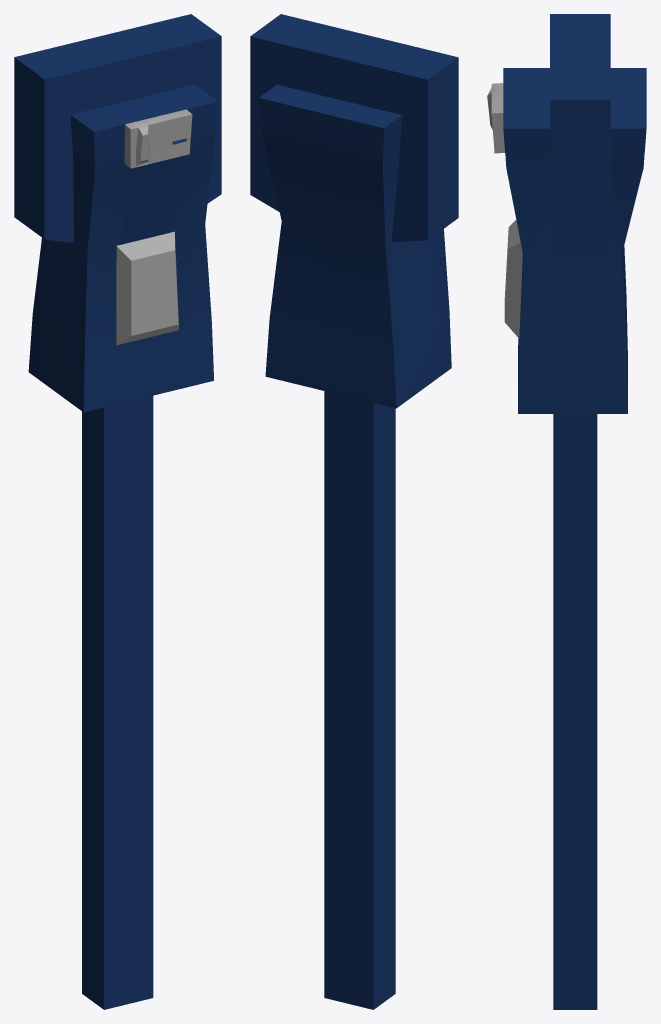
Rendered from Parking_meter.fbx.
3 views of the same model, side by side, from view 1: azimuth 30°, elevation 25°; view 2: azimuth 150°, elevation 25°; view 3: azimuth 270°, elevation 25° (orthographic).
Parts seen in each view (by area): view 1: pCube1; view 2: pCube1; view 3: pCube1.
Boxes of the visible parts, x1,y1,x2,y2 form: pCube1: (14,14,221,1009); pCube1: (250,14,458,1009); pCube1: (487,14,646,1009).
Size of the model in its own units: 11.98 by 61.17 by 9.36.
